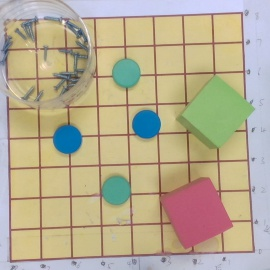blue: (53, 124, 83, 154), (132, 110, 161, 140)
green: (102, 174, 131, 205), (111, 59, 141, 88)
